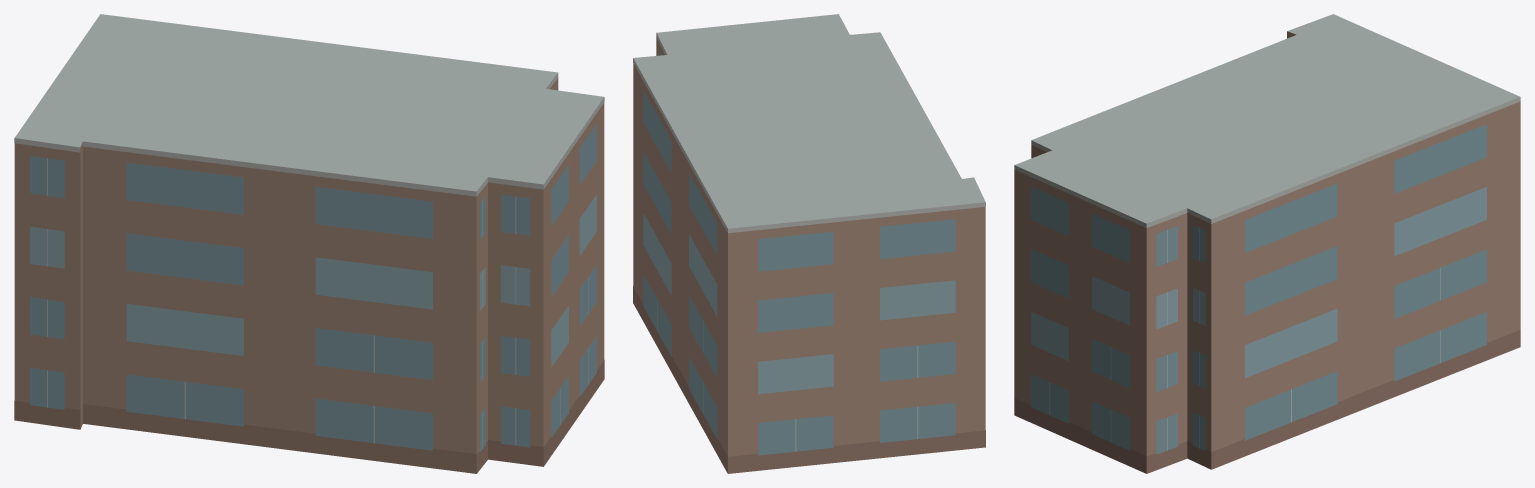
Rendered from survey-upis-32939903.glb.
The picture shows the model from 3 angles, left to right: view 1: azimuth 30°, elevation 25°; view 2: azimuth 150°, elevation 25°; view 3: azimuth 270°, elevation 25°; orthographic projection. The views are drawn at different scales.
Visible parts, largest first — view 1: survey-upis-32939903.tmp; view 2: survey-upis-32939903.tmp; view 3: survey-upis-32939903.tmp.
Boxes of the visible parts, x1,y1,x2,y2 form: survey-upis-32939903.tmp: (14,14,604,473); survey-upis-32939903.tmp: (633,14,985,473); survey-upis-32939903.tmp: (1014,14,1520,473).
Bounding box in the file's own units: 24.08 × 13.4 × 24.57.
